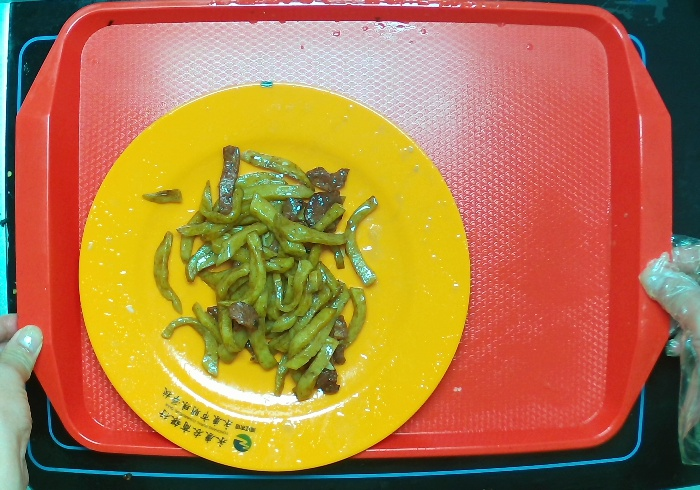YKMZ-Ju_Se_Mian_Pan: (78, 81, 473, 476)
